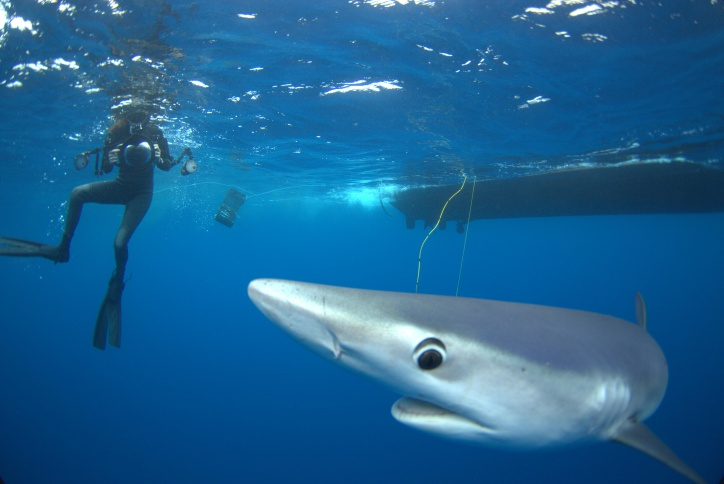Azul: (219, 258, 723, 484)
